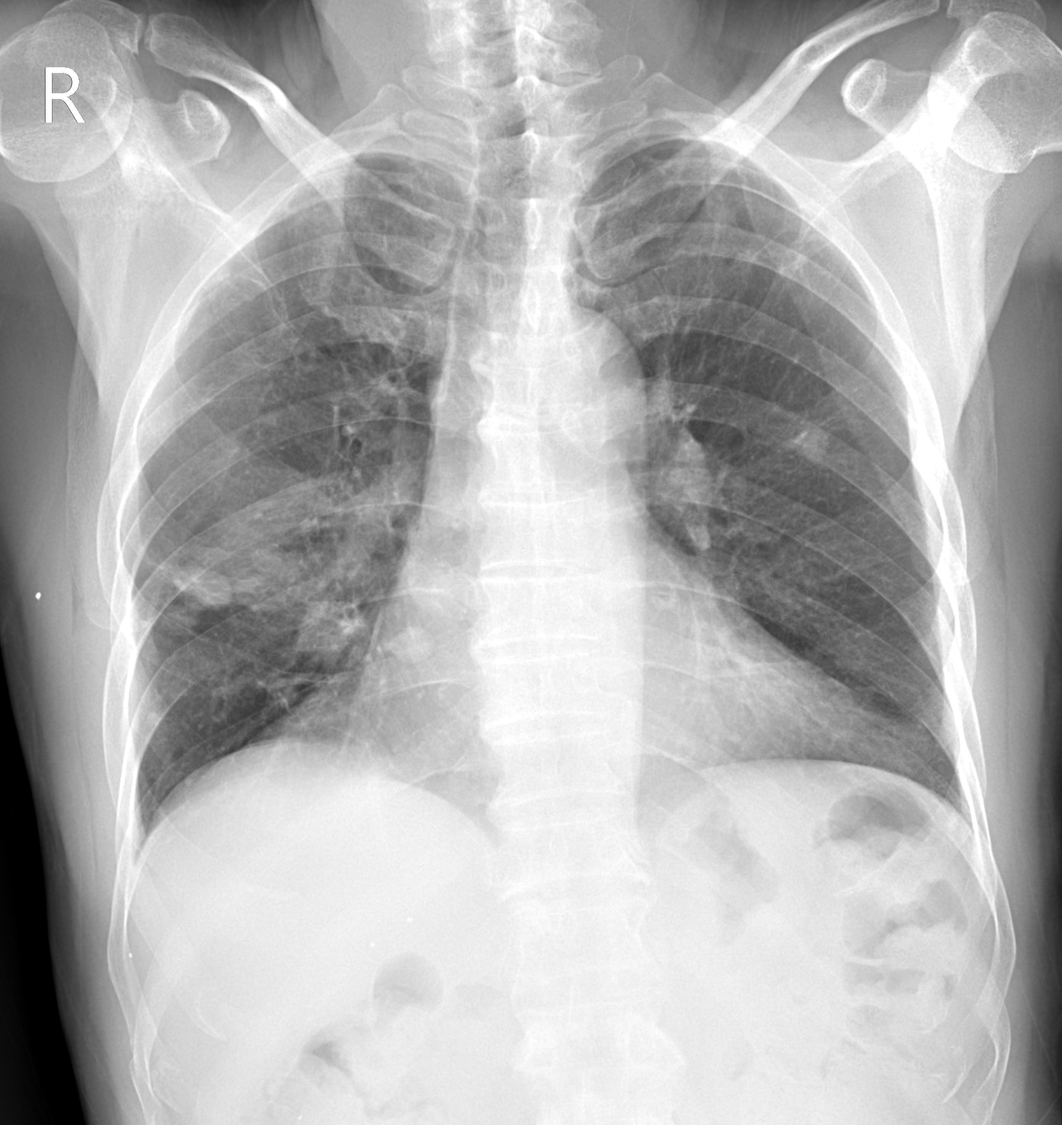Pleural thickening: (676, 115, 771, 178)
Pulmonary fibrosis: (775, 201, 822, 281)
